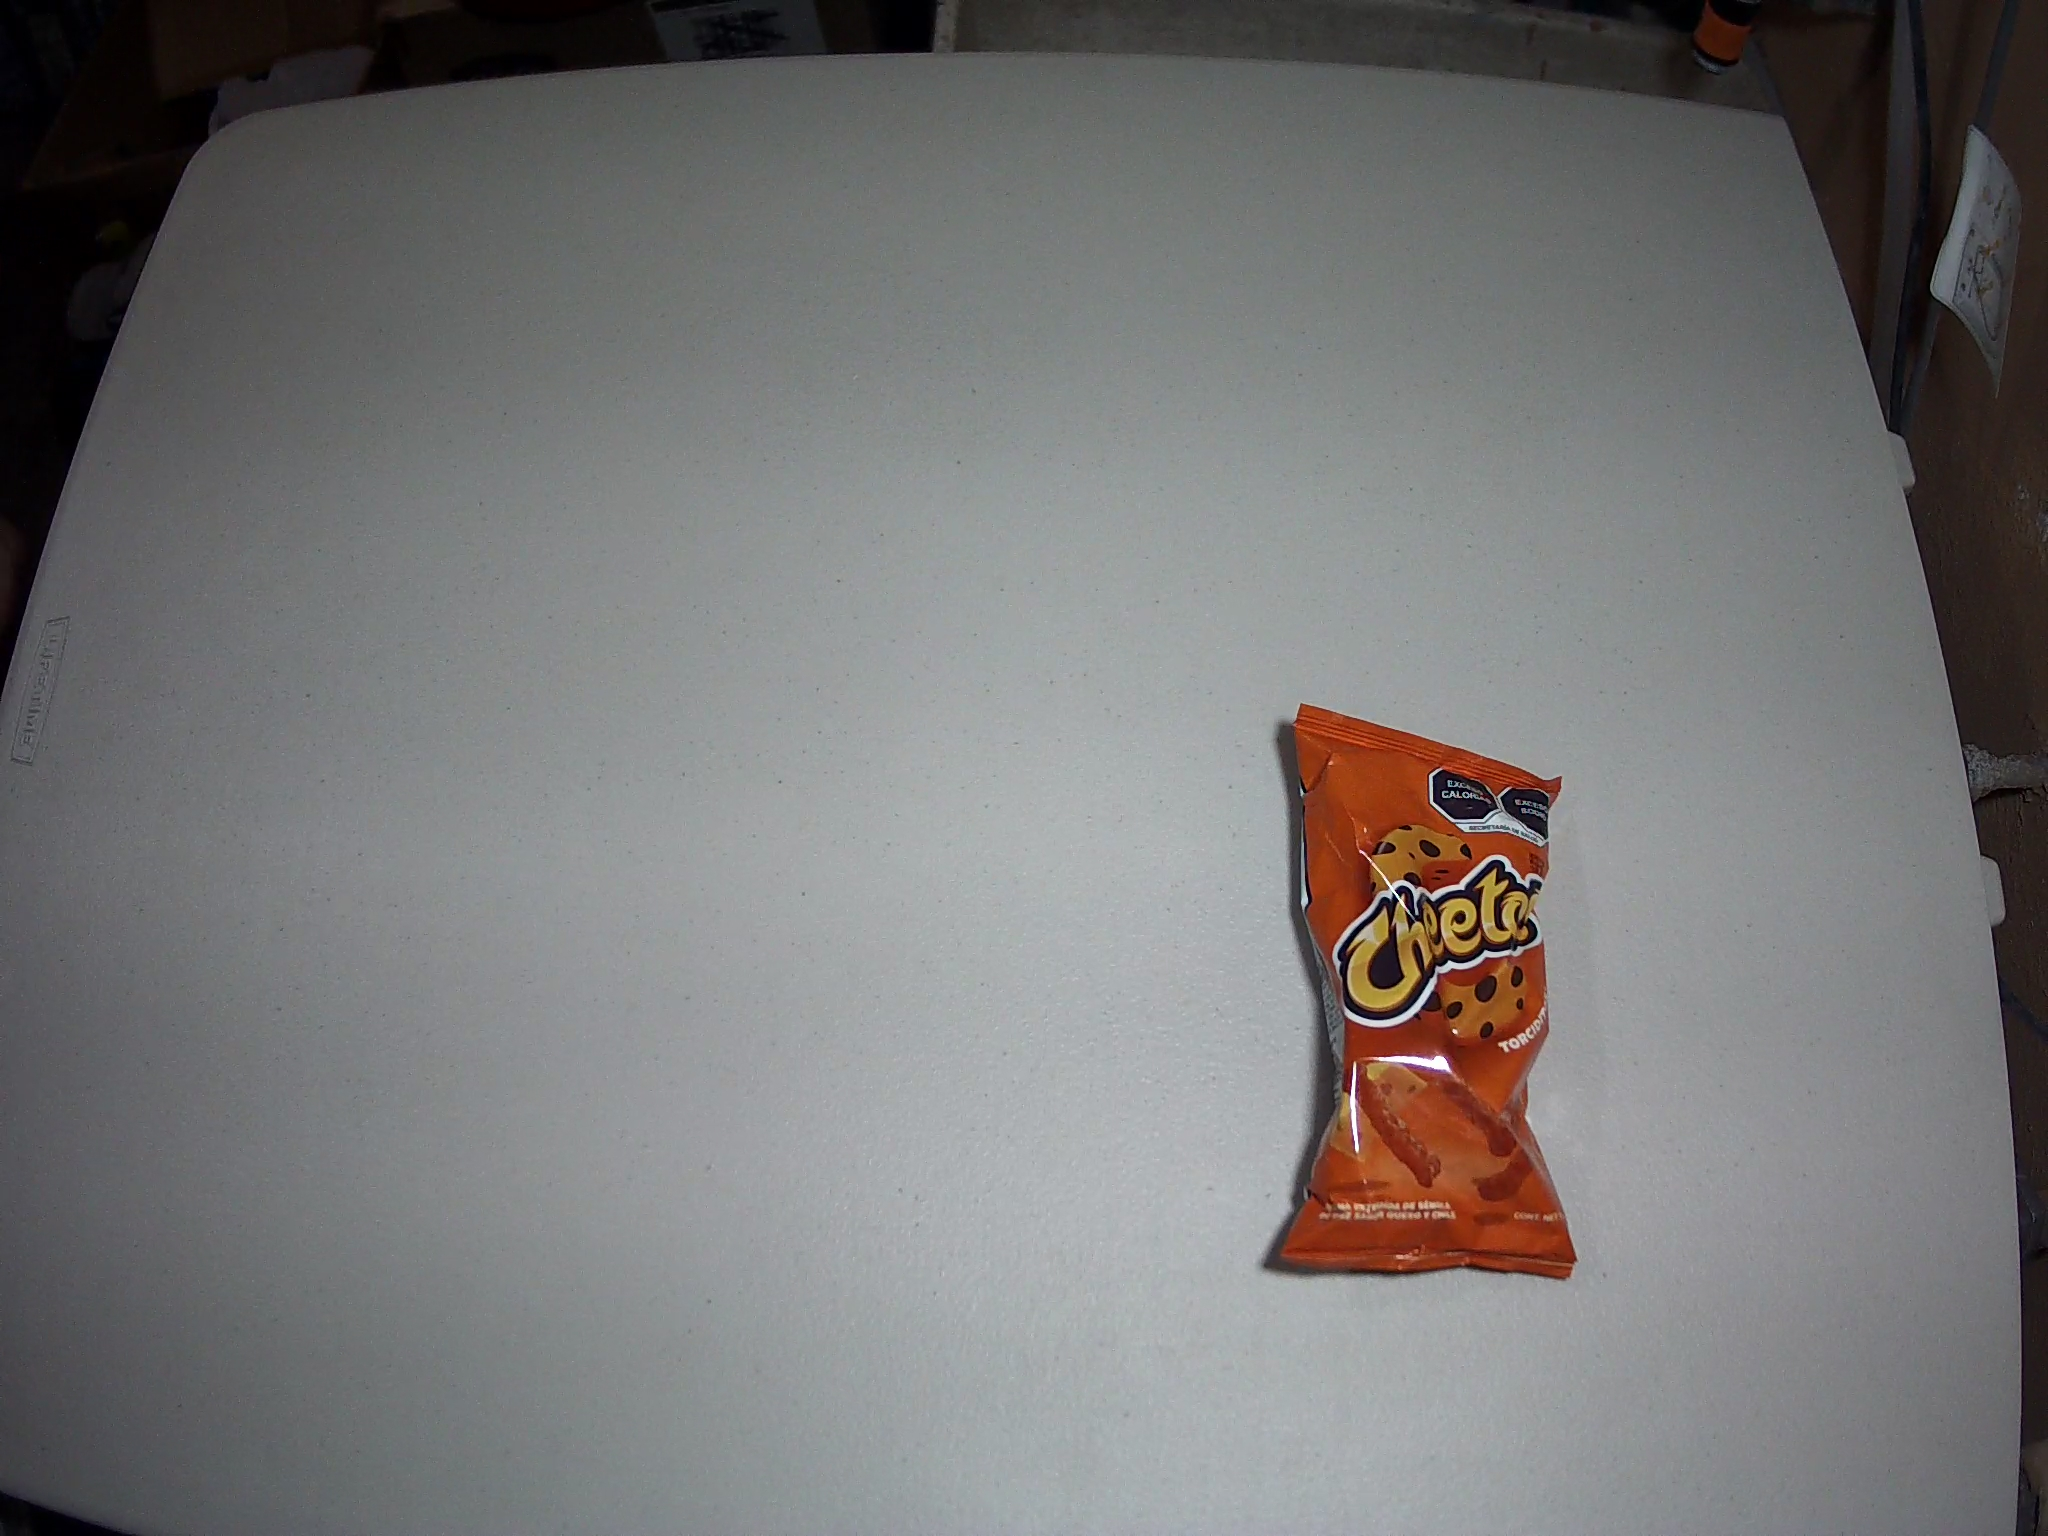CheetosTorciditos_55_F: (1277, 707, 1576, 1278)
